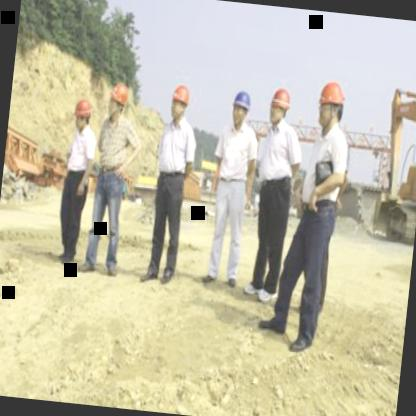helmet: (314, 75, 348, 134), (166, 78, 194, 124), (228, 84, 256, 128), (266, 84, 294, 128), (106, 82, 130, 124), (72, 93, 93, 134)
